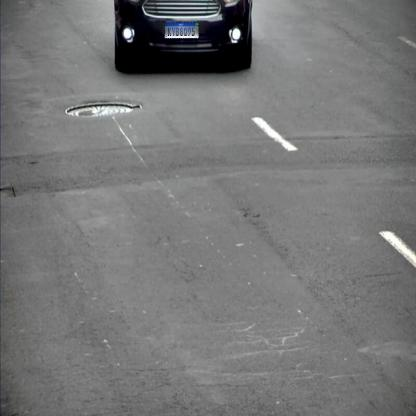PlacaM: (164, 21, 199, 39)
